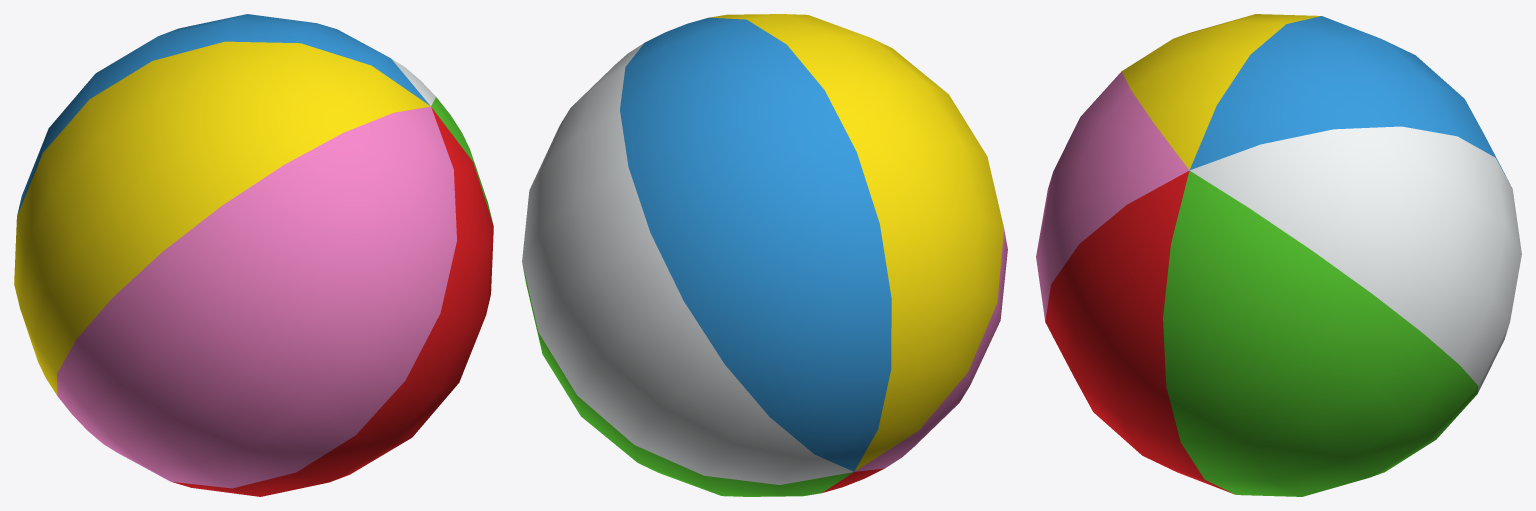
The model's file is sandy_ball_01.FBX.
3 renders of one model, left to right at view 1: azimuth 30°, elevation 25°; view 2: azimuth 150°, elevation 25°; view 3: azimuth 270°, elevation 25°, orthographic.
Parts seen in each view (by area): view 1: sandy_ball_01; view 2: sandy_ball_01; view 3: sandy_ball_01.
Boxes of the visible parts, x1=… form: sandy_ball_01: x1=14, y1=14, x2=493, y2=496; sandy_ball_01: x1=522, y1=14, x2=1007, y2=496; sandy_ball_01: x1=1036, y1=14, x2=1521, y2=496.
Bounding box in the file's own units: 78.93 × 78.93 × 78.48.
Materials: 1 (1 with a texture image).
